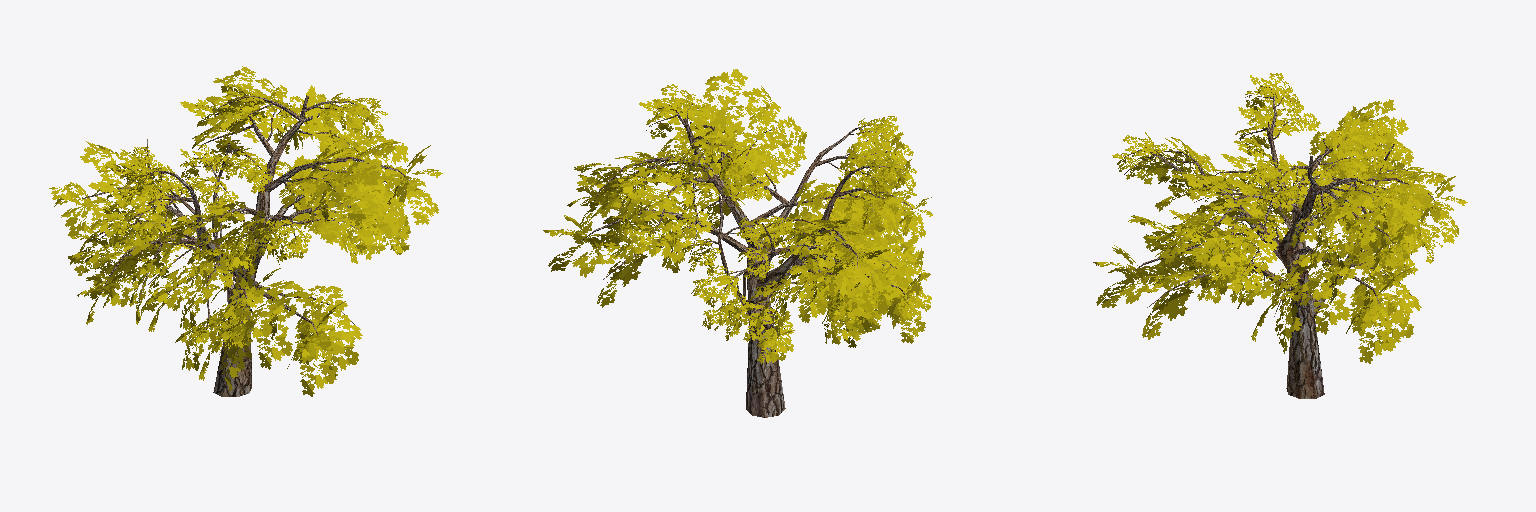
3 views of the same model, side by side, from view 1: azimuth 30°, elevation 25°; view 2: azimuth 150°, elevation 25°; view 3: azimuth 270°, elevation 25° (orthographic).
Visible parts, largest first — view 1: tree_large_oak_tree_oak_joined.012; view 2: tree_large_oak_tree_oak_joined.012; view 3: tree_large_oak_tree_oak_joined.012.
Boxes of the visible parts, x1=… form: tree_large_oak_tree_oak_joined.012: x1=49, y1=66, x2=442, y2=396; tree_large_oak_tree_oak_joined.012: x1=543, y1=69, x2=932, y2=417; tree_large_oak_tree_oak_joined.012: x1=1093, y1=73, x2=1467, y2=398.
Bounding box in the file's own units: 837 × 639 × 787.
Materials: 3 (2 with a texture image).